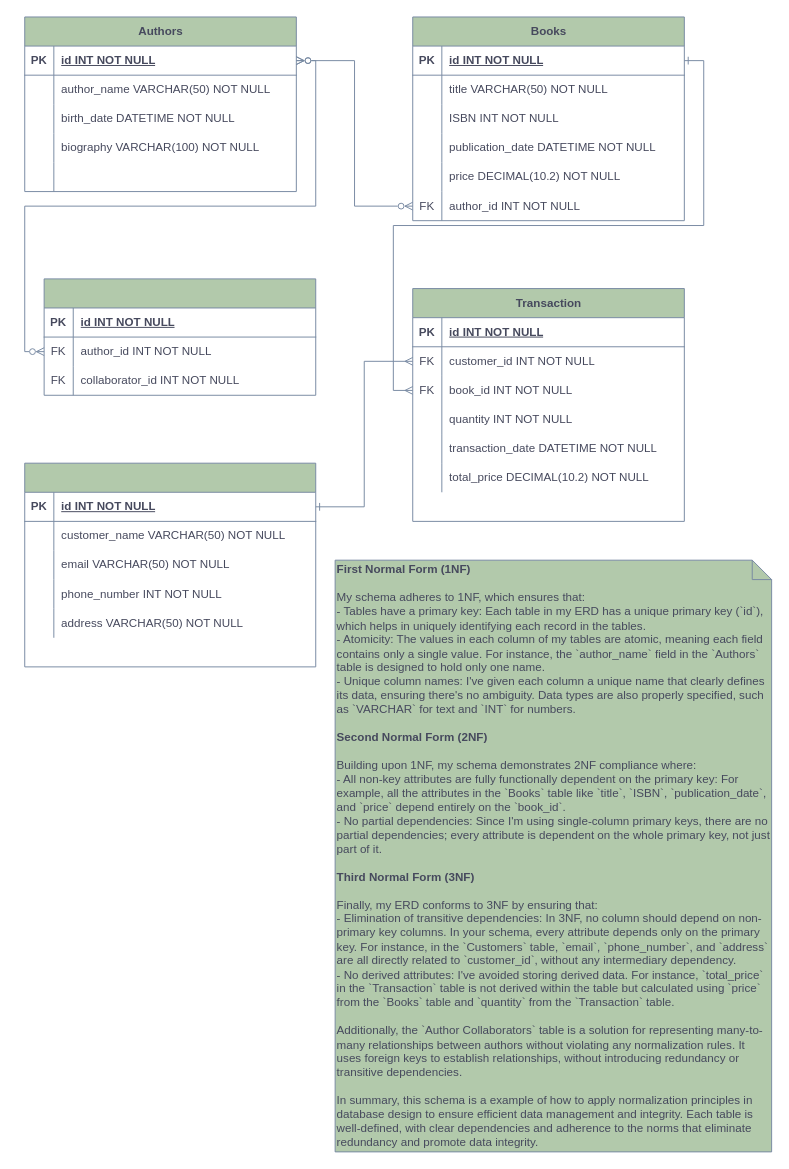
Image size: 789x1169. Some labels were removed from this diagram. The box of each missing label's shape, as (x1, y1, x2, y2) in pixels:
Author Collaborators: (43, 278, 316, 395)
Customers: (24, 462, 316, 667)
